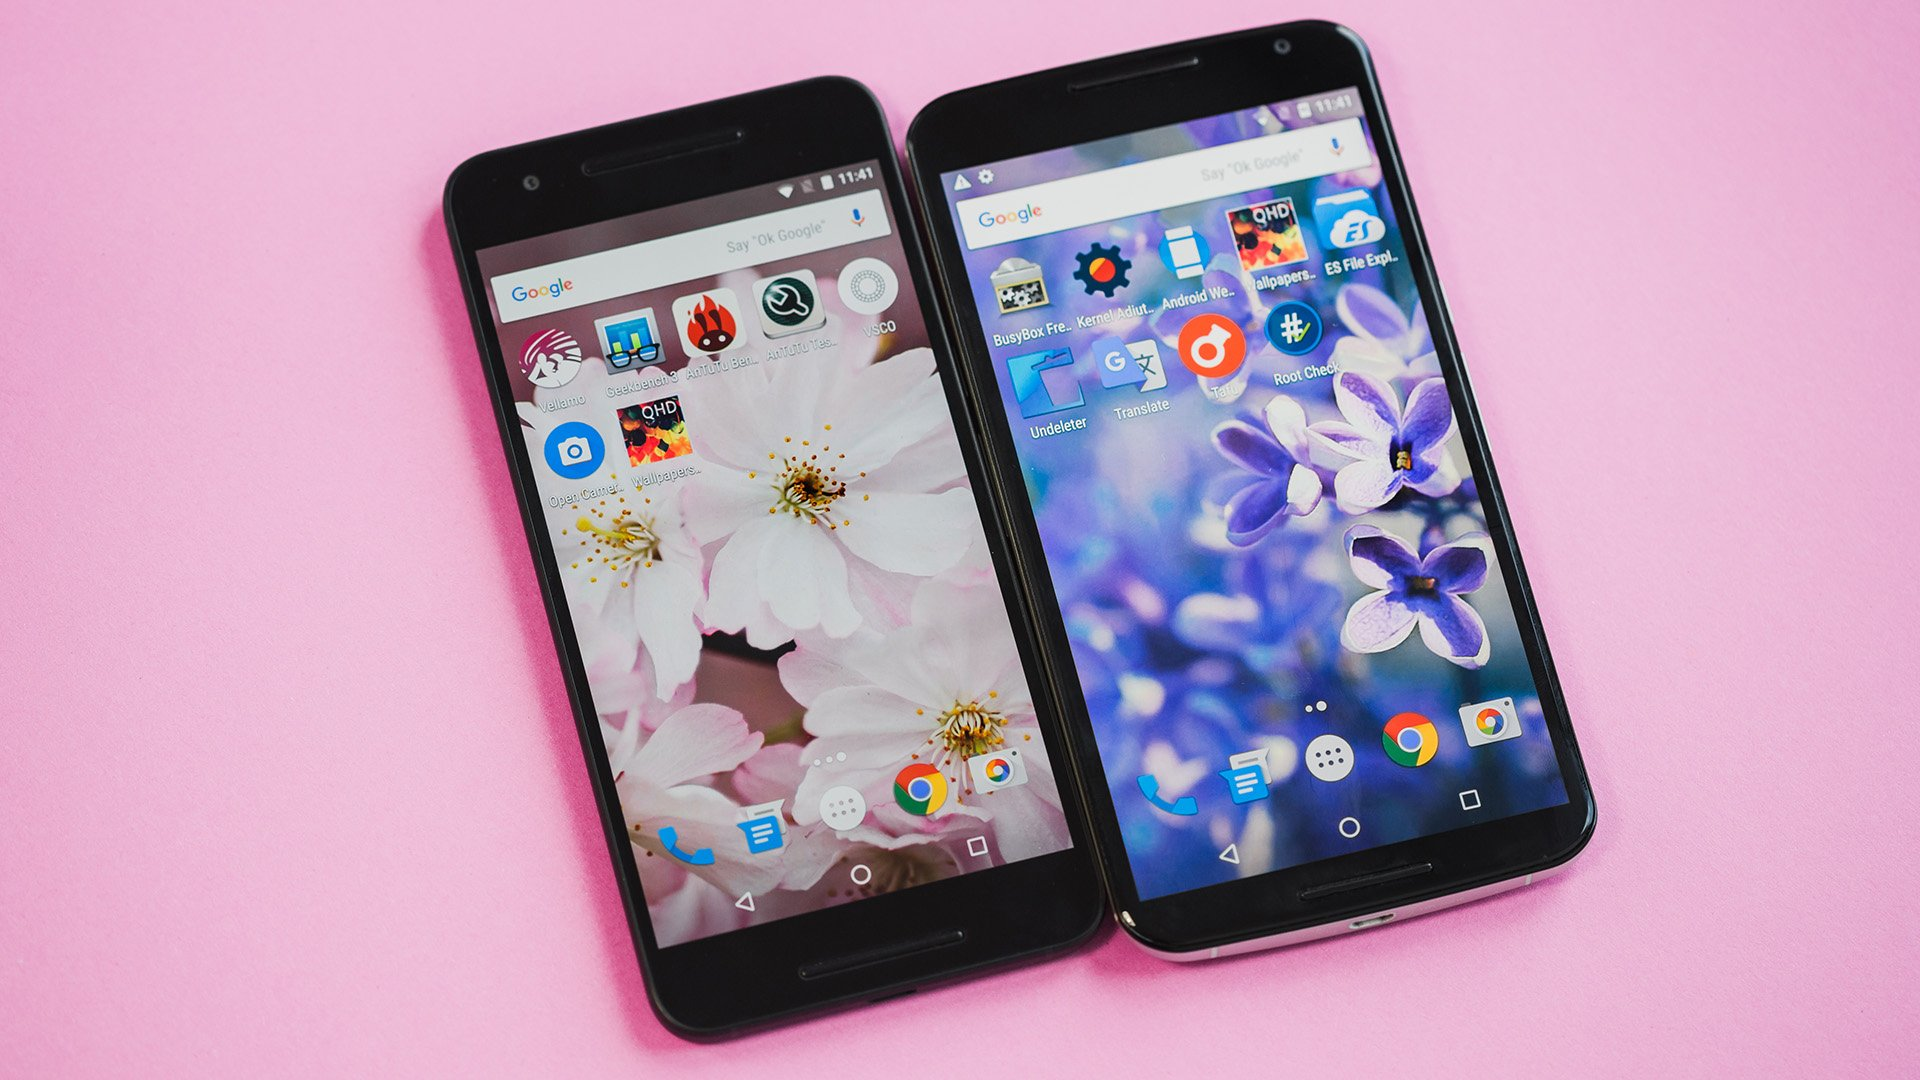smartphone: (905, 16, 1600, 963), (440, 73, 1109, 1047)
